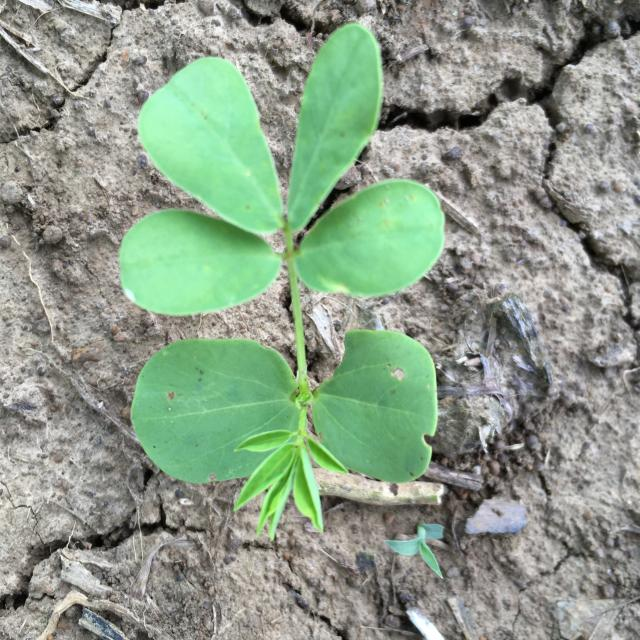Sicklepod: (119, 23, 445, 541)
